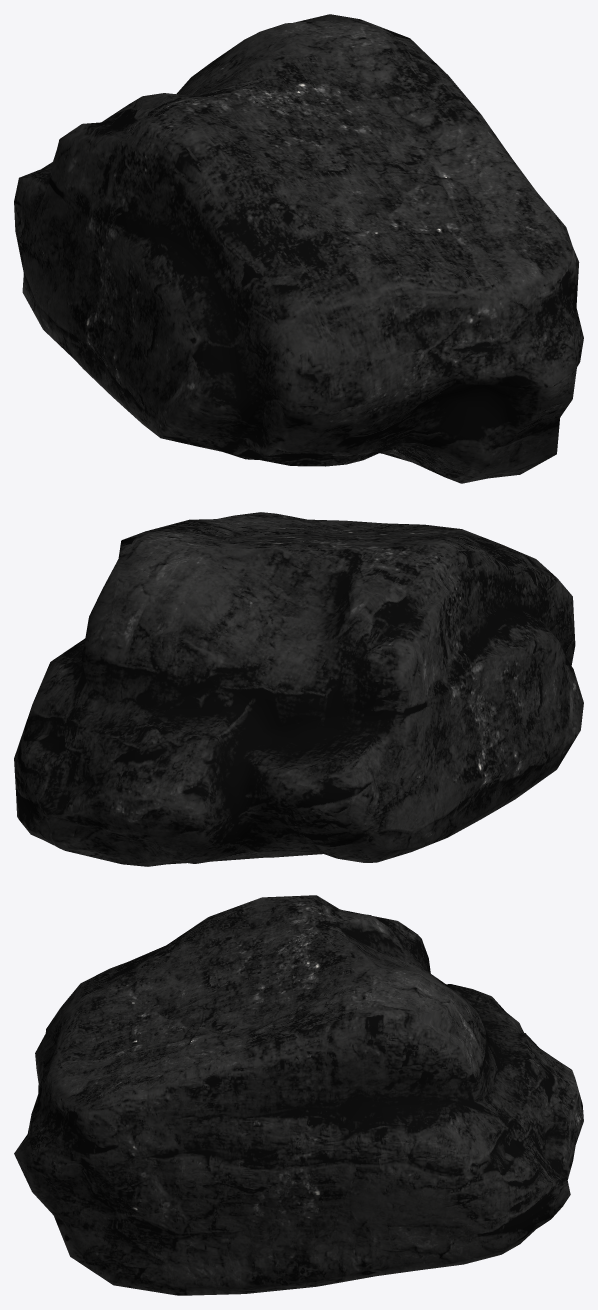
The model's file is rock_2.glb.
3 renders of one model, top to bottom at view 1: azimuth 30°, elevation 25°; view 2: azimuth 150°, elevation 25°; view 3: azimuth 270°, elevation 25°, orthographic. The views are drawn at different scales.
Visible parts, largest first — view 1: Rock_1; view 2: Rock_1; view 3: Rock_1.
Part boxes in pixels (x1,y1,x2,y2): Rock_1: (14, 14, 583, 483); Rock_1: (14, 512, 583, 866); Rock_1: (14, 895, 583, 1295).
Size of the model in its own units: 4.08 by 3.34 by 5.8.
Materials: 1 (1 with a texture image).
